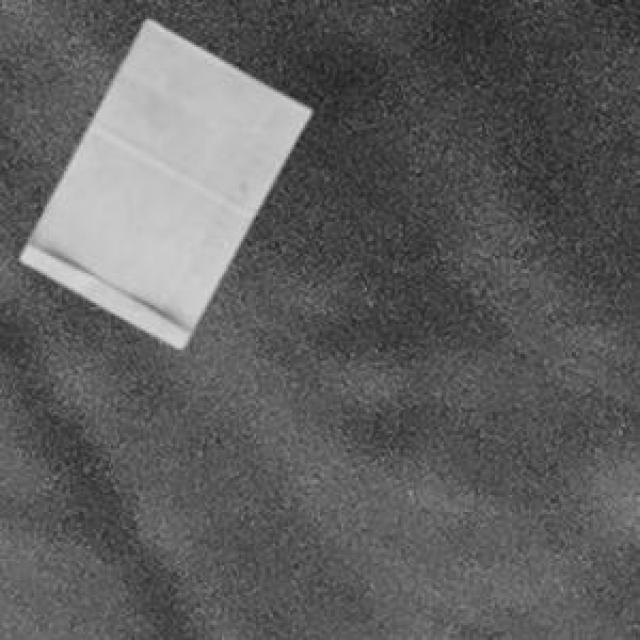paper: (17, 17, 307, 344)
